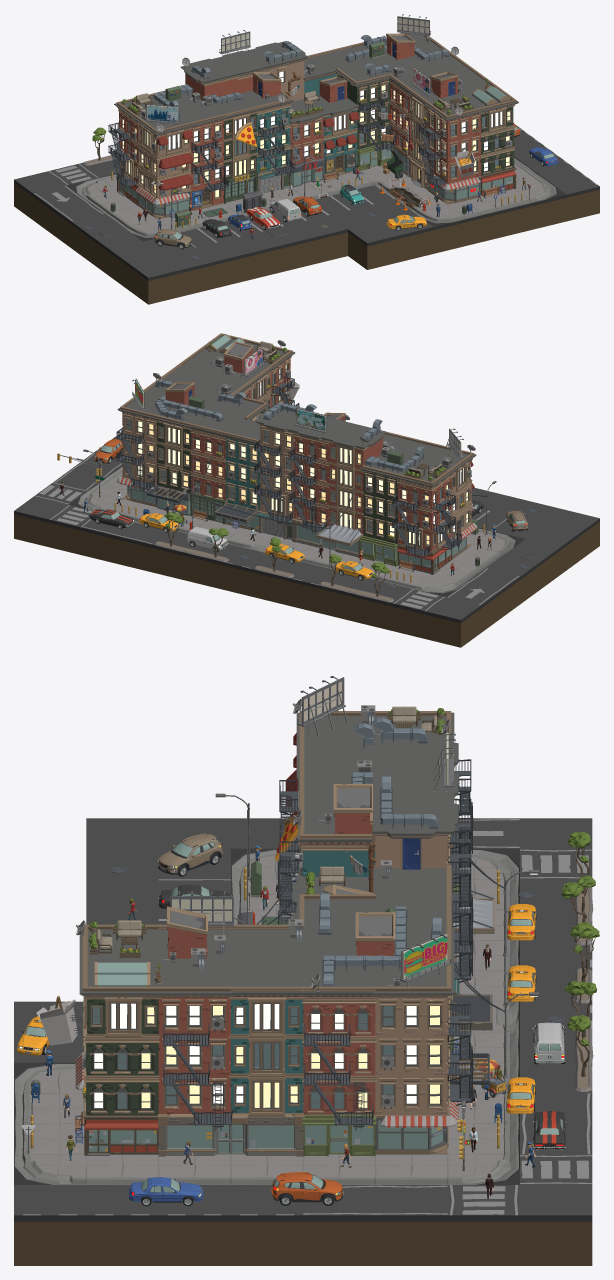
Rendered from polygon-city-pack-preview-v1.glb.
The picture shows the model from 3 angles, top to bottom: view 1: azimuth 30°, elevation 25°; view 2: azimuth 150°, elevation 25°; view 3: azimuth 270°, elevation 25°; orthographic projection. The views are drawn at different scales.
Parts seen in each view (by area): view 1: city-pack; view 2: city-pack; view 3: city-pack.
Part boxes in pixels (x1=…): city-pack: x1=14, y1=14, x2=599, y2=304; city-pack: x1=14, y1=333, x2=599, y2=647; city-pack: x1=14, y1=676, x2=599, y2=1265.
Size of the model in its own units: 65 by 22.42 by 40.53.
Materials: 5 (4 with a texture image).
